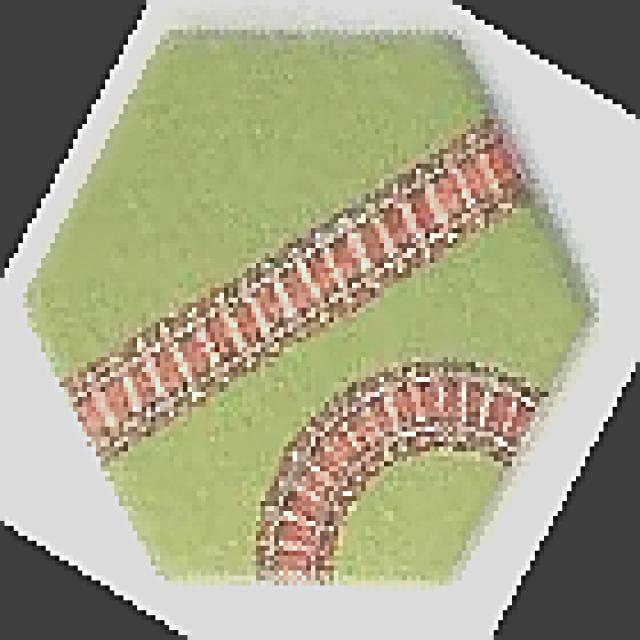4_1: (23, 30, 599, 590)
